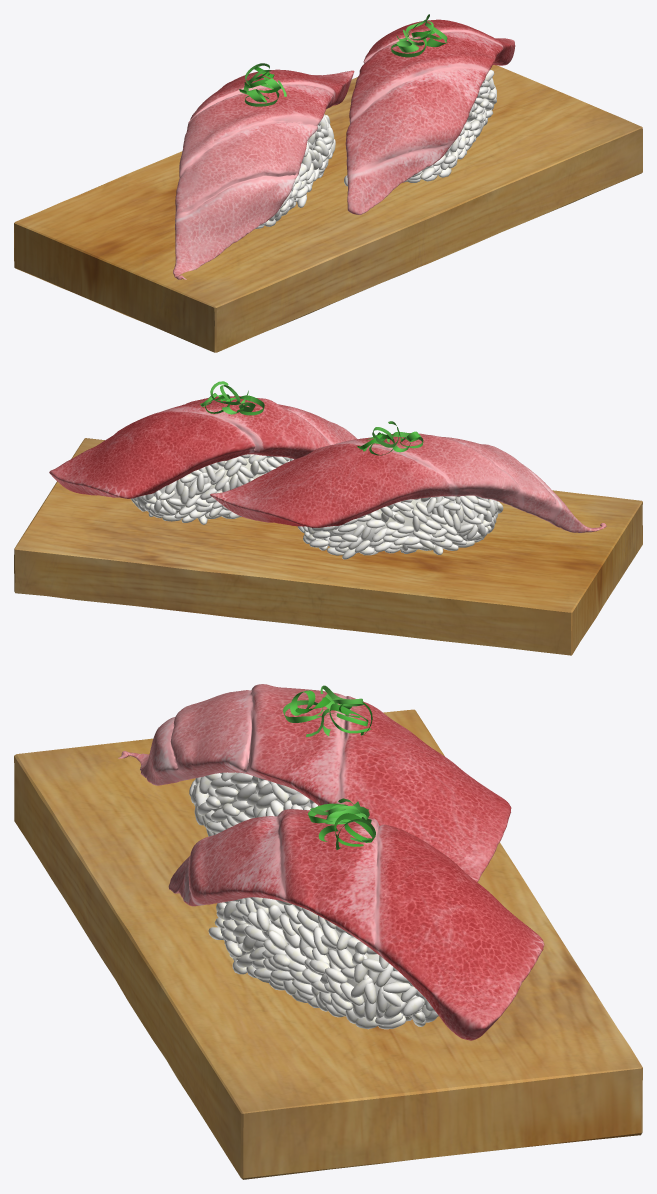
File: sushi.glb
3 views of the same model, one above another, from view 1: azimuth 30°, elevation 25°; view 2: azimuth 150°, elevation 25°; view 3: azimuth 270°, elevation 25° (orthographic). The views are drawn at different scales.
Visible parts, largest first — view 1: wood, toro2, toro1, rice1, rice2, shallot1, shallot2; view 2: wood, toro2, toro1, rice2, rice1, shallot1, shallot2; view 3: wood, toro1, toro2, rice1, rice2, shallot2, shallot1.
Part boxes in pixels (x1,y1,x2,y2): wood: (14, 65, 642, 352); toro2: (173, 69, 354, 279); toro1: (345, 19, 515, 214); rice1: (344, 70, 496, 186); rice2: (255, 114, 335, 228); shallot1: (391, 14, 447, 57); shallot2: (239, 63, 286, 106); wood: (14, 438, 642, 655); toro2: (210, 433, 606, 532); toro1: (49, 396, 356, 498); rice2: (297, 495, 503, 559); rice1: (131, 454, 293, 524); shallot1: (200, 381, 264, 415); shallot2: (357, 421, 423, 455); wood: (14, 709, 642, 1179); toro1: (168, 809, 544, 1040); toro2: (118, 684, 511, 882); rice1: (208, 897, 438, 1029); rice2: (189, 772, 318, 836); shallot2: (283, 685, 372, 736); shallot1: (308, 798, 375, 849).
Bounding box in the file's own units: 13.66 × 4.02 × 8.99.
Materials: 4 (4 with a texture image).
